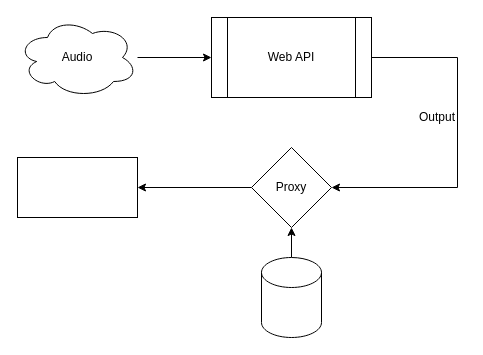
The diagram is 483 pixels wide and 355 high, and some of its shapes have lost their labels. The centre of each missing label's shape, as x and y in pixels:
"Actions" belongs at point 291,297.
"Command to execute" belongs at point 77,187.
